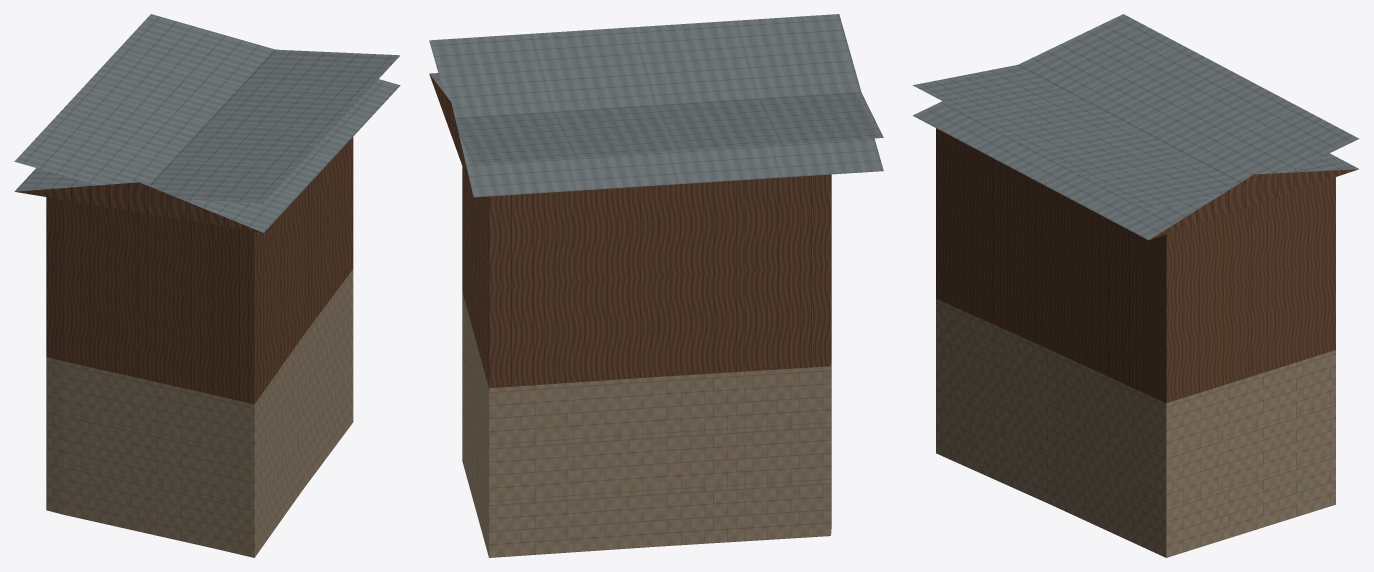
File: bld_c41_-10_499.gltf
The picture shows the model from 3 angles, left to right: view 1: azimuth 30°, elevation 25°; view 2: azimuth 150°, elevation 25°; view 3: azimuth 270°, elevation 25°; orthographic projection. The views are drawn at different scales.
Parts seen in each view (by area): view 1: bld_c41_-10_499; view 2: bld_c41_-10_499; view 3: bld_c41_-10_499.
Boxes of the visible parts, box(x1,y1,x2,y2) form: bld_c41_-10_499: box(14, 14, 400, 557); bld_c41_-10_499: box(429, 14, 883, 557); bld_c41_-10_499: box(913, 14, 1359, 557).
Size of the model in its own units: 13.87 by 12.1 by 13.36.
4 materials, 4 textured.
